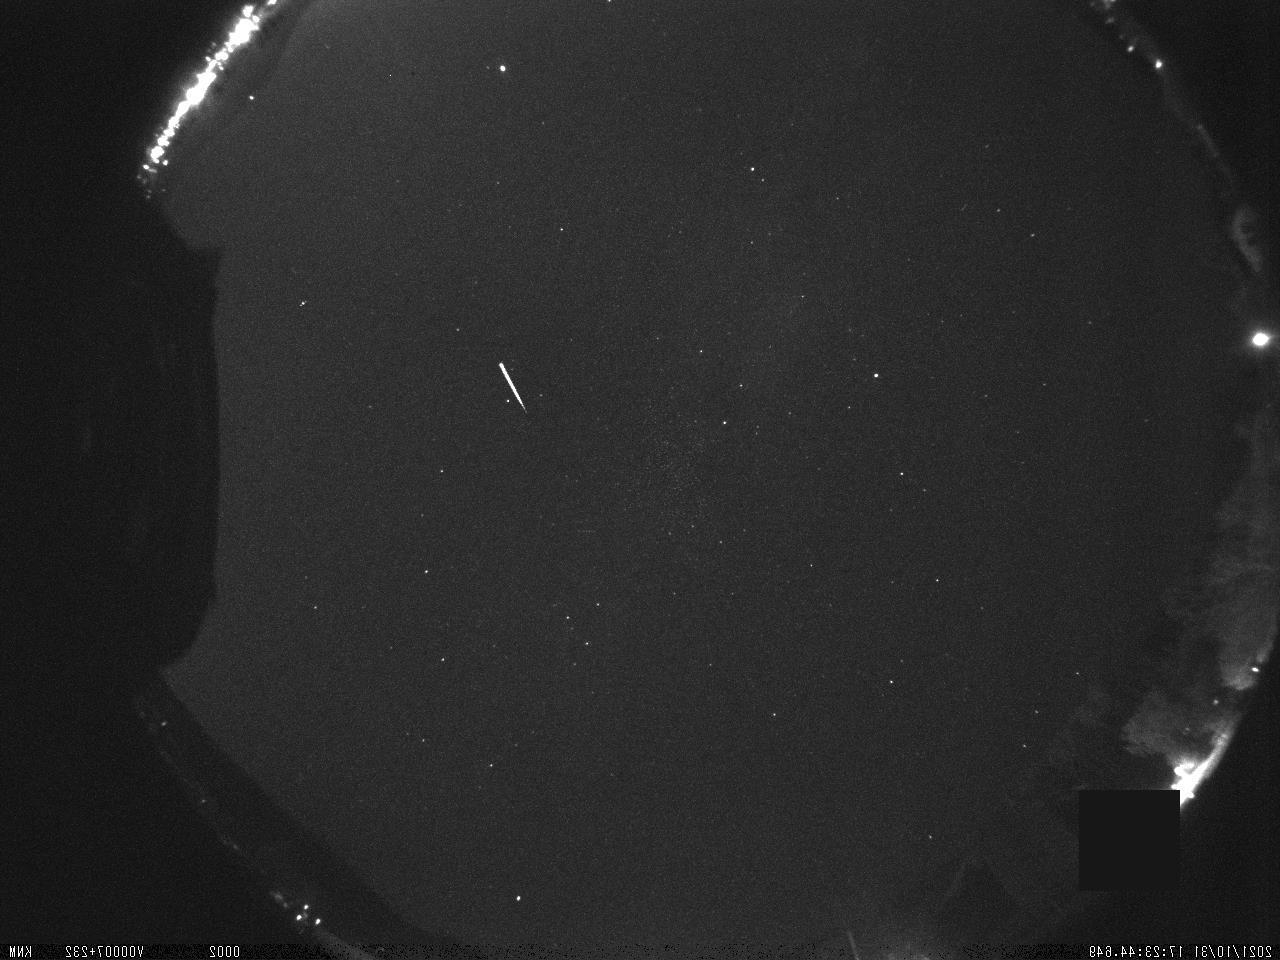meteor: (492, 356, 541, 416)
